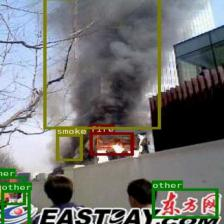fire: (90, 132, 134, 155)
smoke: (42, 0, 160, 129), (55, 134, 82, 160)
